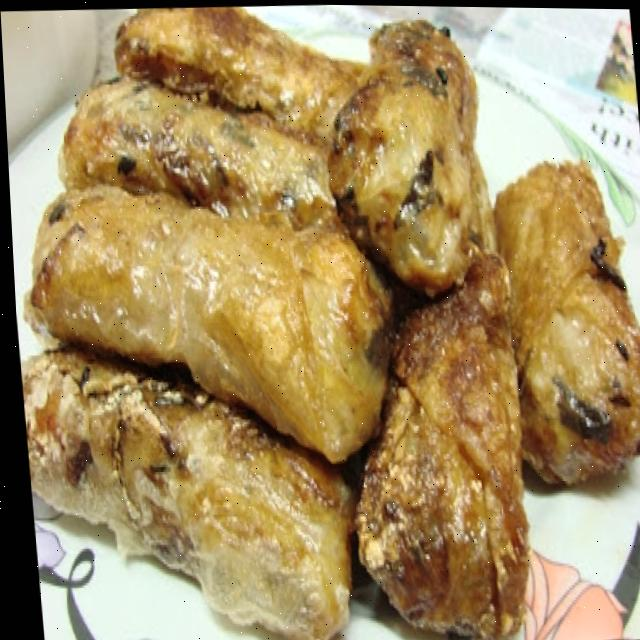炸货点心: (0, 4, 640, 640)
